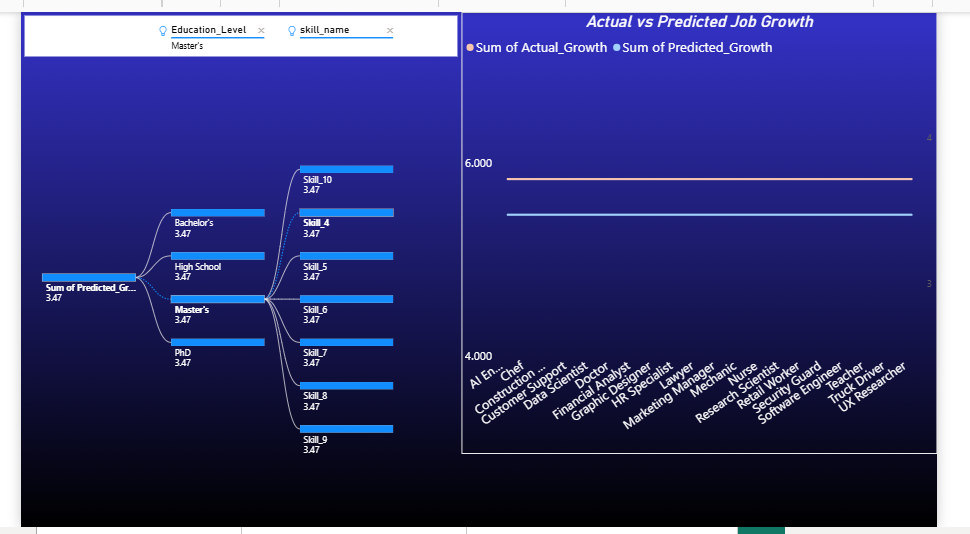

Layout of this report page (visuals, bound fields, positions):
{"tool":"powerbi","page":{"name":"Model Predictions & Performance","canvas":[1280,720],"ordinal":2},"visuals":[{"type":"lineChart","title":"Actual vs Predicted Job Growth","fields":{"Category":["AI_Impact_on_Jobs_2030.Job_Title"],"Y":["Sum(predictions.Actual_Growth)"],"Y2":["Sum(predictions.Predicted_Growth)"]},"box":[615,0,664.8,616.9],"z":0},{"type":"decompositionTreeVisual","fields":{"Analyze":["Sum(predictions.Predicted_Growth)"],"ExplainBy":["AI_Impact_on_Jobs_2030.Education_Level","AI_Impact_on_Jobs_2030.skill_name"]},"box":[0,0,615,720.4],"z":1000}]}

Visuals, with their boxes in screenshot pixels (x1, y1, x2, y2), scaled from the page's 1280x720 canvas onto the 970x534 screenshot:
"Actual vs Predicted Job Growth" lineChart: (left=466, top=0, right=969, bottom=458)
decompositionTreeVisual - Sum(predictions.Predicted_Growth) x AI_Impact_on_Jobs_2030.Education_Level: (left=0, top=0, right=466, bottom=533)
